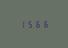five: (26, 20, 33, 28)
one: (18, 20, 25, 28)
six: (34, 19, 41, 27), (42, 19, 49, 27)
